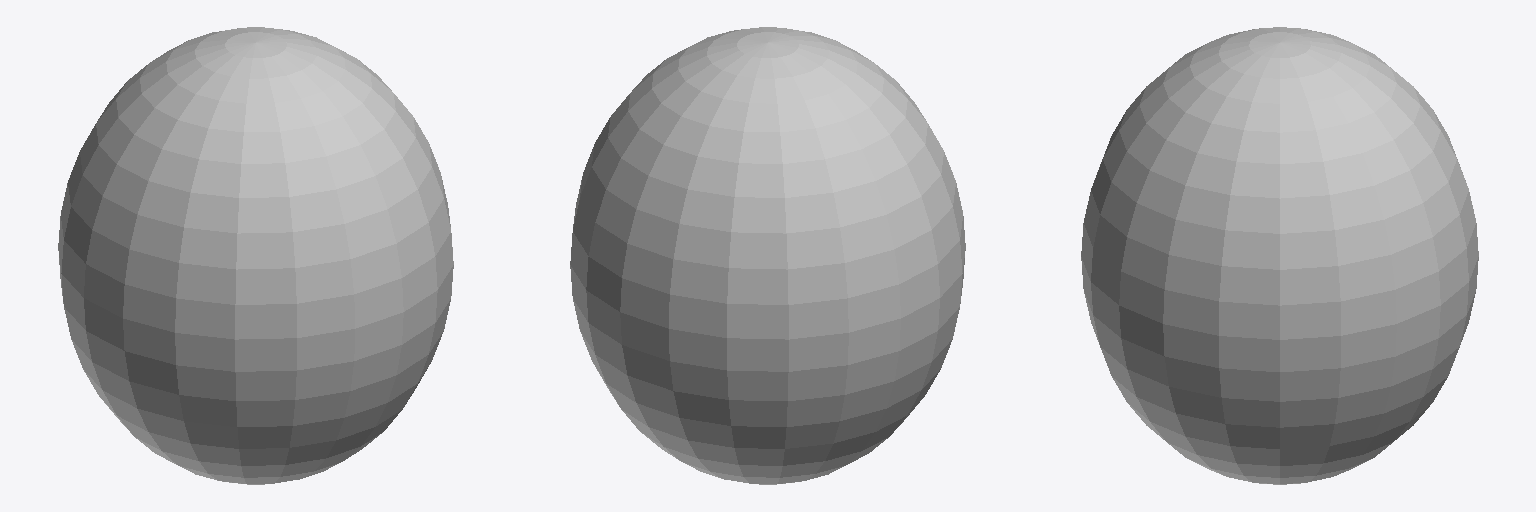
File: treeLeaves2.obj
The picture shows the model from 3 angles: view 1: azimuth 30°, elevation 25°; view 2: azimuth 150°, elevation 25°; view 3: azimuth 270°, elevation 25°; orthographic projection.
Visible parts, largest first — view 1: pSphere1; view 2: pSphere1; view 3: pSphere1.
Boxes of the visible parts, x1=… form: pSphere1: x1=58, y1=27, x2=453, y2=484; pSphere1: x1=570, y1=27, x2=965, y2=484; pSphere1: x1=1081, y1=27, x2=1478, y2=484.
Bounding box in the file's own units: 5.03 × 5.96 × 5.03.